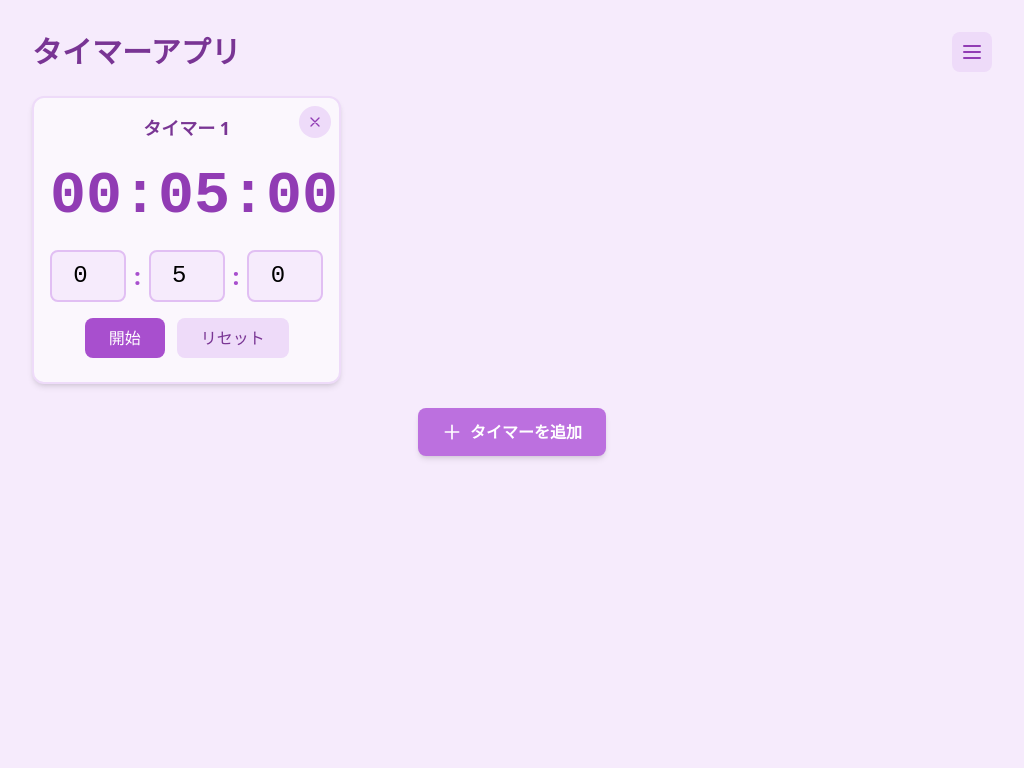
it: App › 複数タイマー管理機能 (Req 6.1-6.5) › タイマー数に制限がない（複数追加可能）
Step 1. Click the button with test id "add-timer-button" → x=512, y=432, box [418,408,606,456]
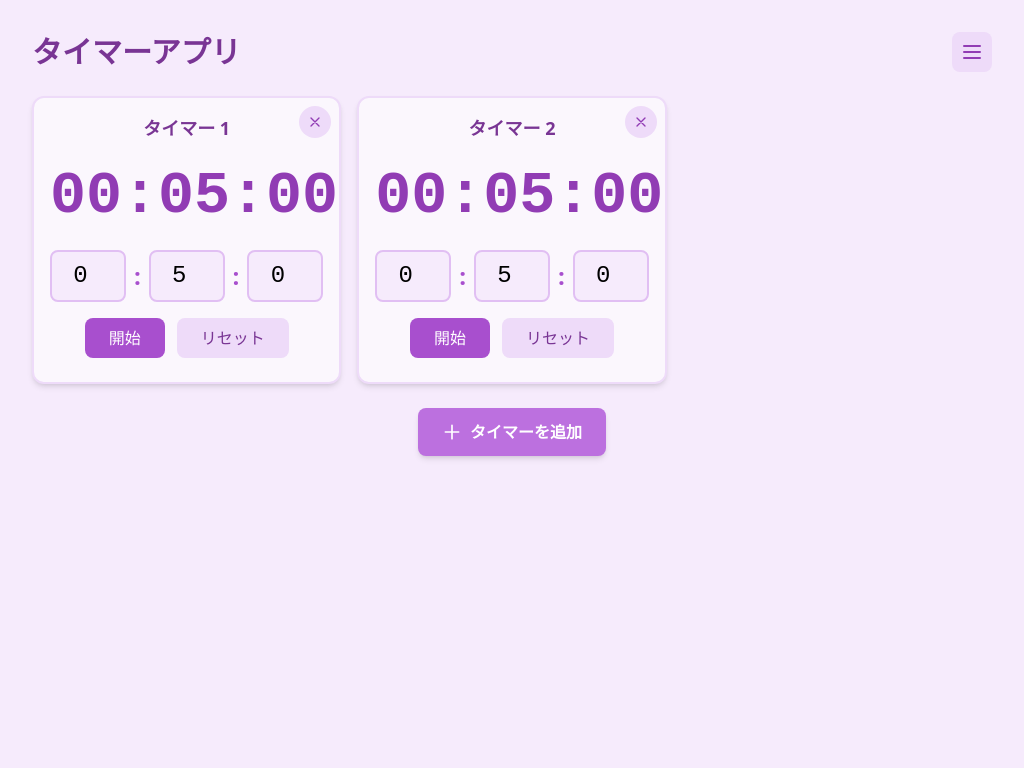
Step 2. Click the button with test id "add-timer-button" → x=512, y=432, box [418,408,606,456]
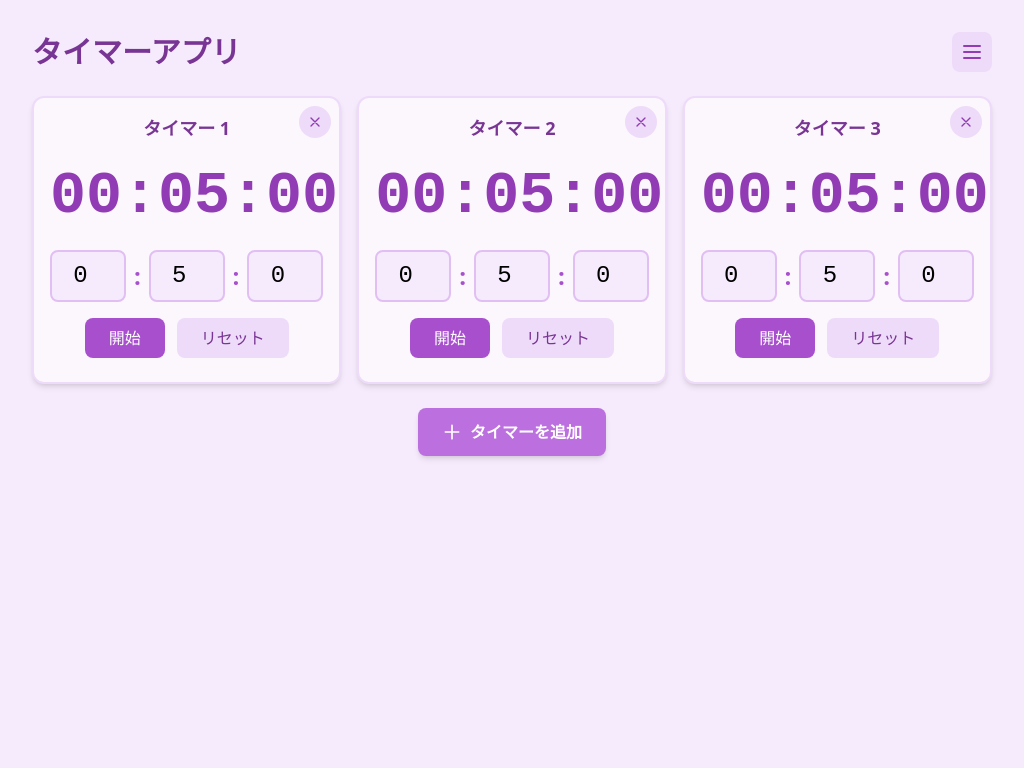
Step 3. Click the button with test id "add-timer-button" → x=512, y=432, box [418,408,606,456]
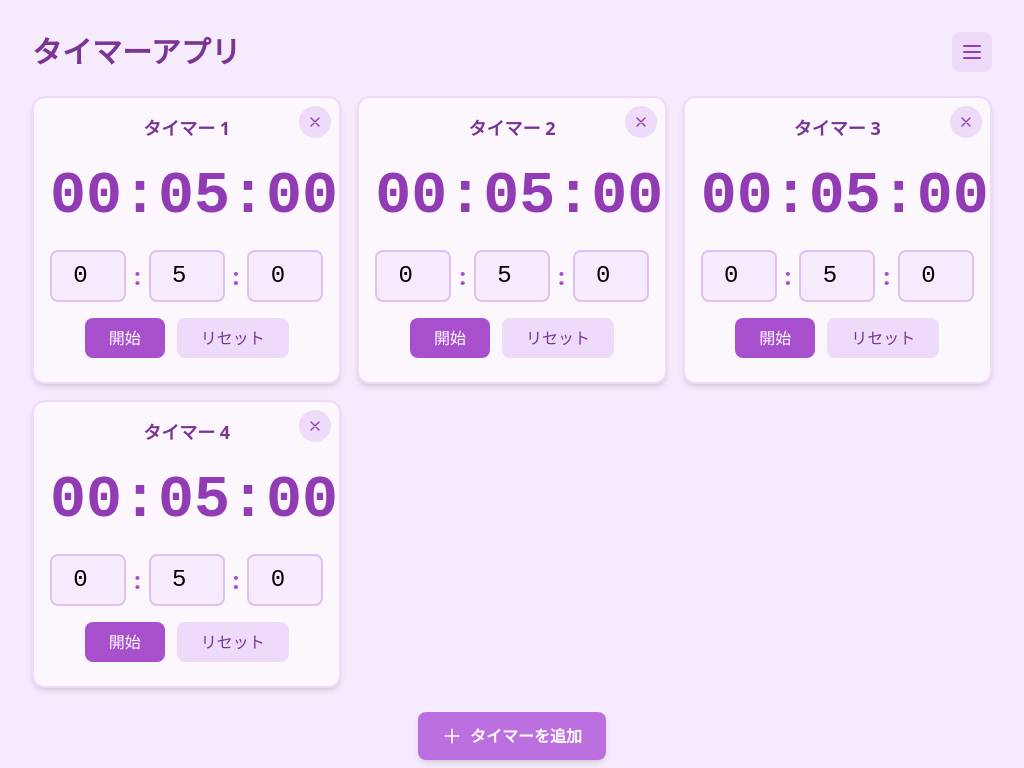
Step 4. Click the button with test id "add-timer-button" → x=512, y=736, box [418,712,606,760]
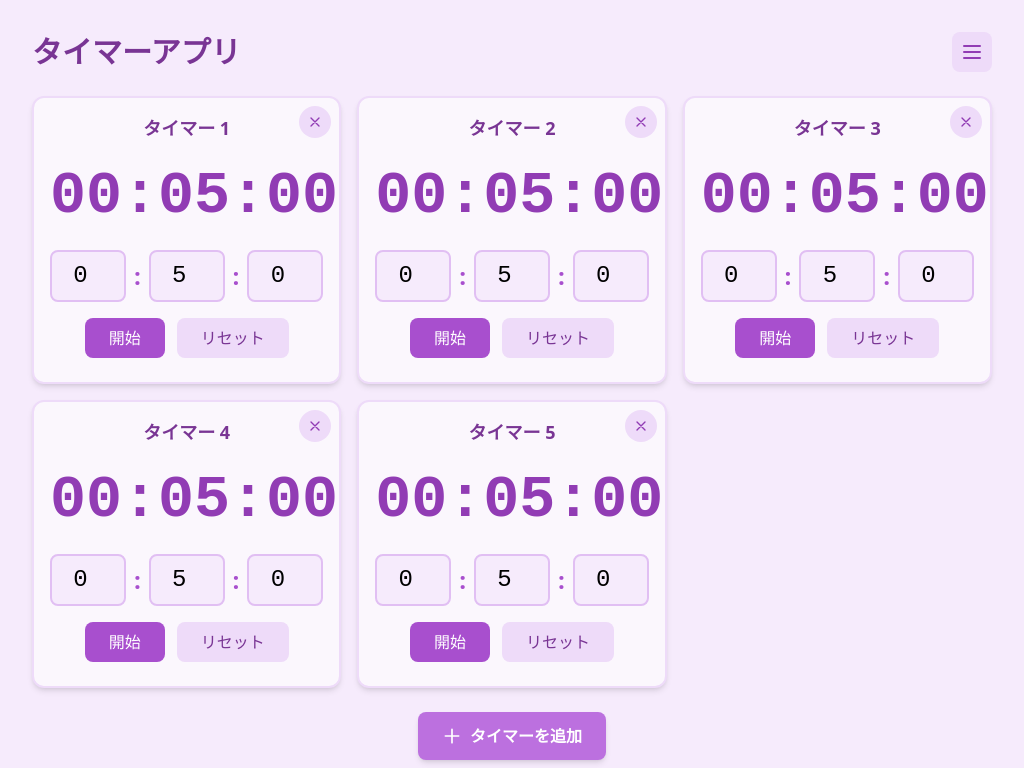
Step 5. Click the button with test id "add-timer-button" → x=512, y=736, box [418,712,606,760]
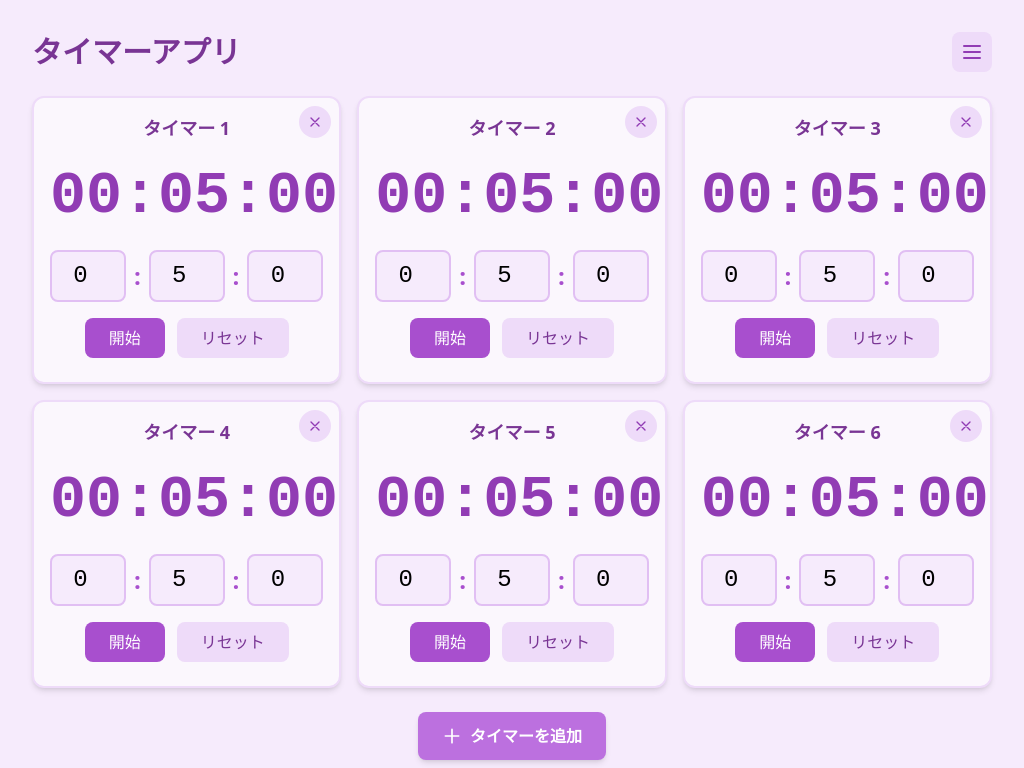
Expected: the number of elements with test id "timer-card" is 6, [32,96,341,384]; [357,96,667,384]; [683,96,992,384]; [32,400,341,688]; [357,400,667,688]; [683,400,992,688]
